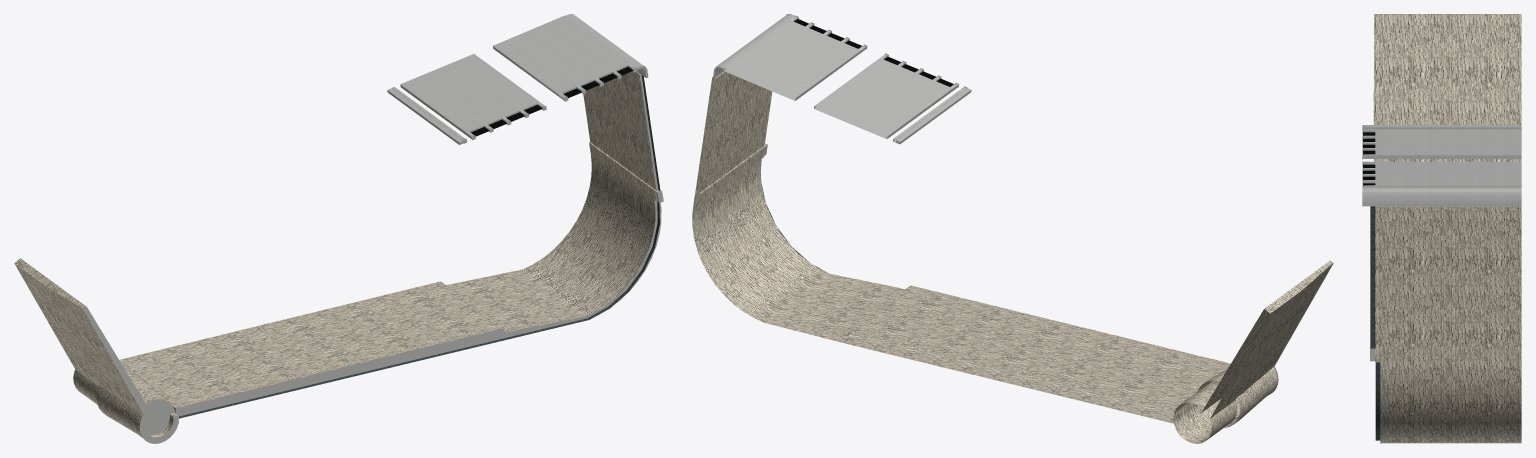
Rendered from Toompea_Falgi_myyr.obj.
3 renders of one model, left to right at view 1: azimuth 30°, elevation 25°; view 2: azimuth 150°, elevation 25°; view 3: azimuth 270°, elevation 25°, orthographic. The views are drawn at different scales.
Visible parts, largest first — view 1: Toompea_Falgi_myyr; view 2: Toompea_Falgi_myyr; view 3: Toompea_Falgi_myyr.
Boxes of the visible parts, x1,y1,x2,y2 form: Toompea_Falgi_myyr: (14, 14, 663, 443); Toompea_Falgi_myyr: (692, 14, 1333, 443); Toompea_Falgi_myyr: (1362, 14, 1521, 443).
Bounding box in the file's own units: 117 × 51.15 × 24.96.
